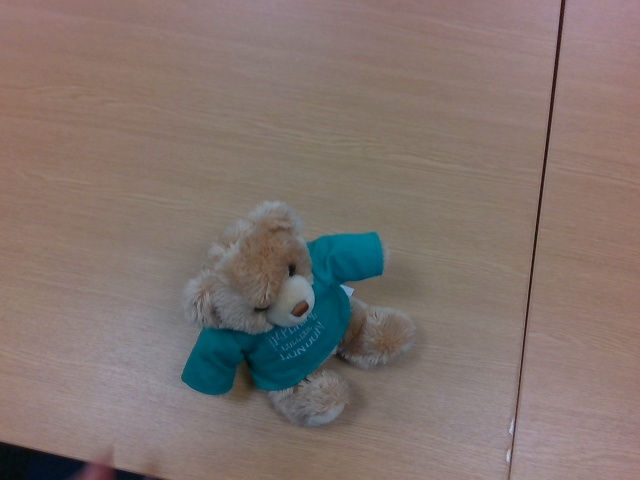teddy: (180, 201, 418, 430)
